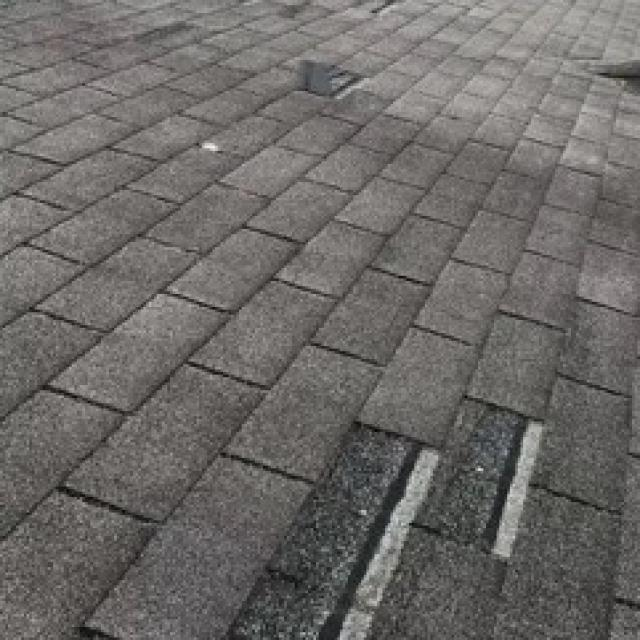damage: (229, 420, 440, 639), (409, 392, 548, 562), (298, 56, 364, 96), (583, 58, 640, 98), (135, 15, 199, 43)
